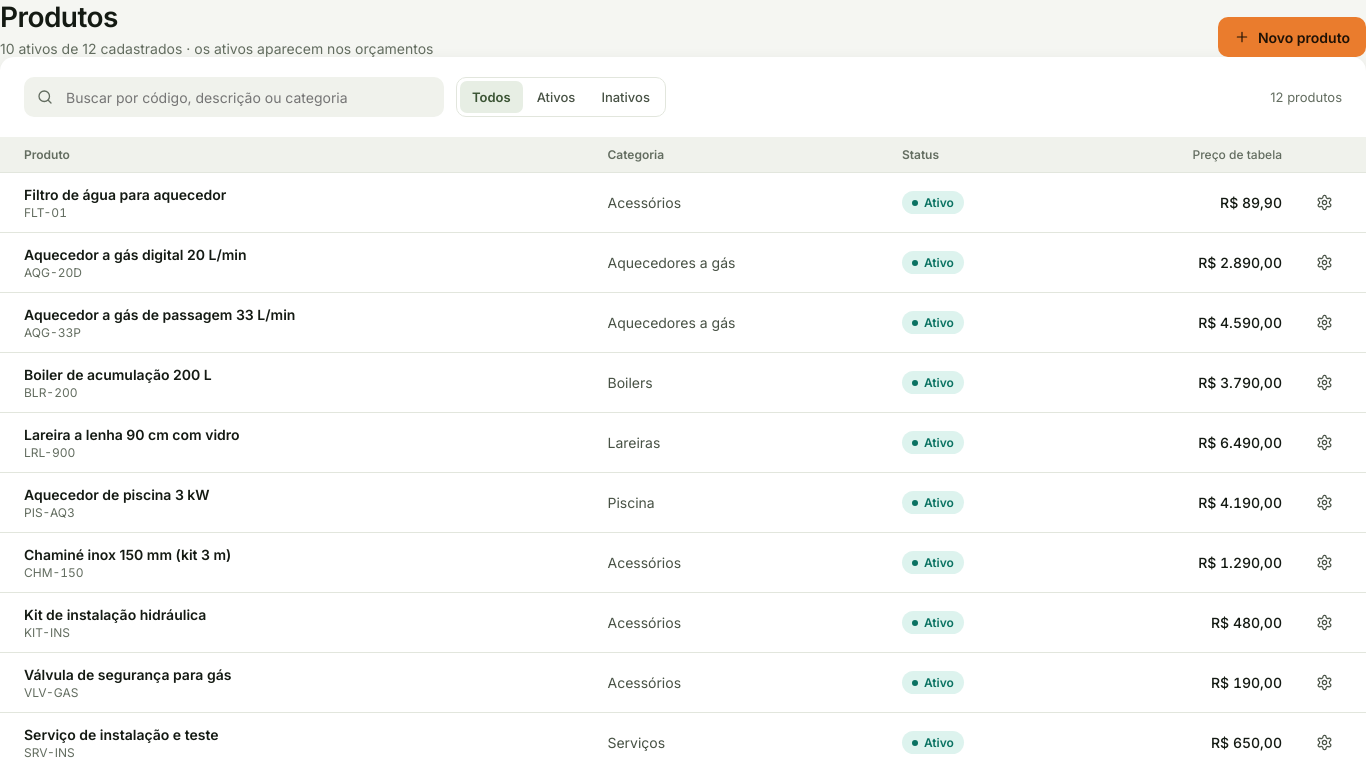
Test case: ProductsPage › valida os campos e acusa código já usado antes de salvar
The width and height of the screenshot is (1366, 768).
Click the button "Novo produto".
click(1292, 37)  # box [1218,17,1365,57]
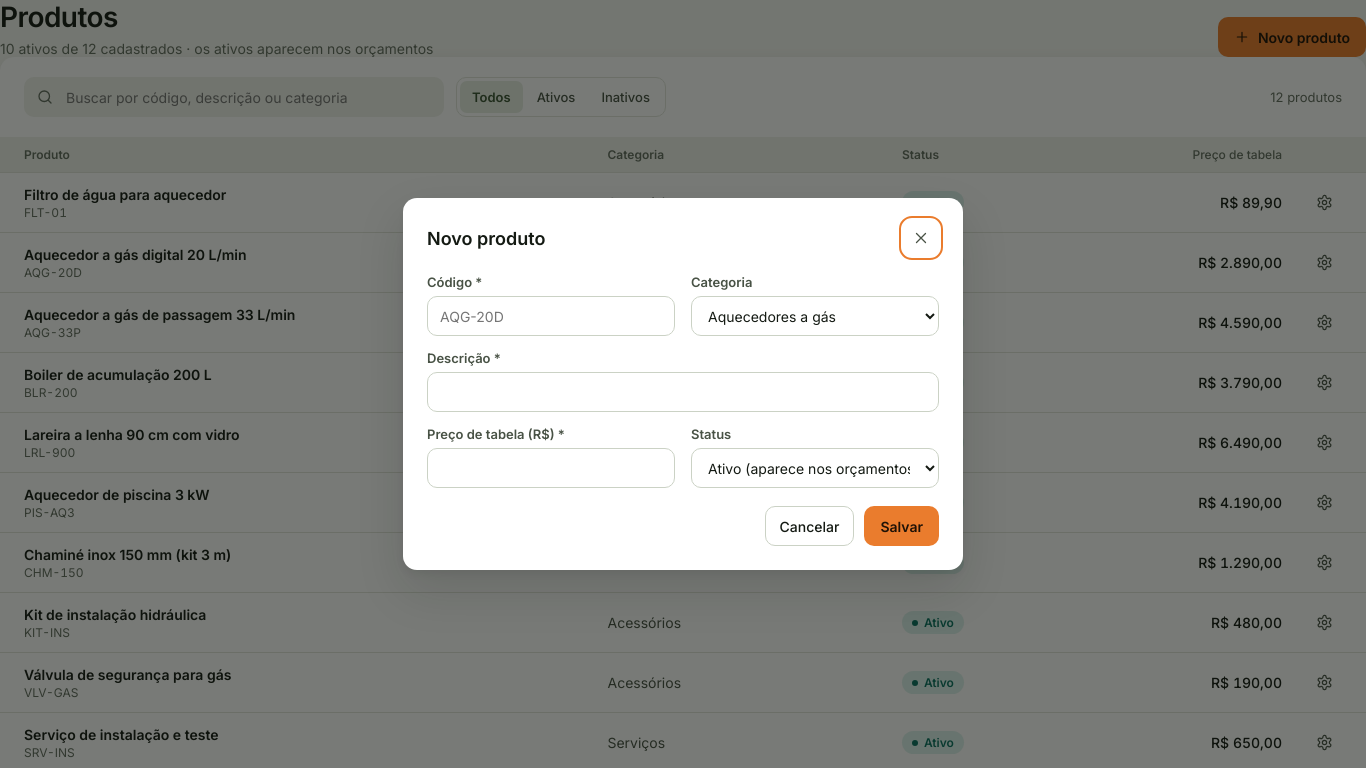
Click the button "Salvar".
click(902, 526)  # box [864,506,939,546]
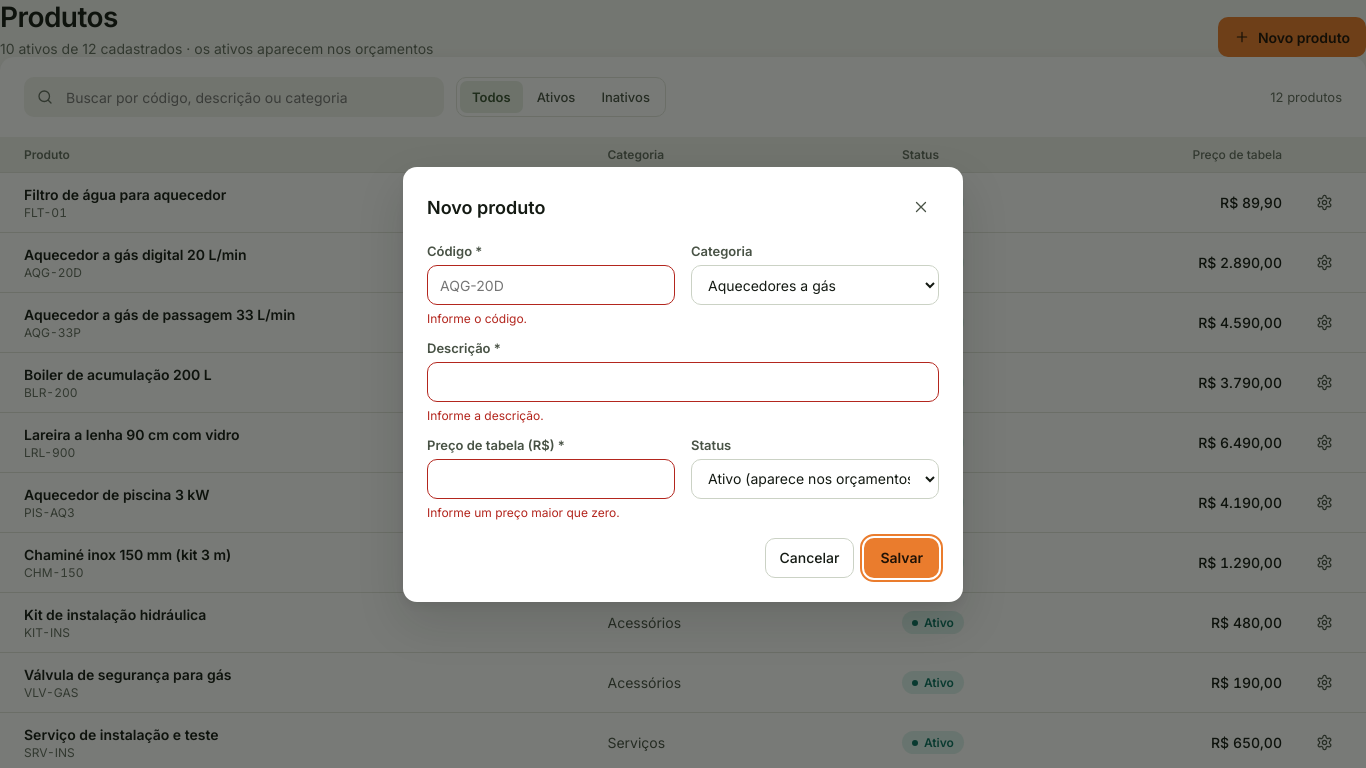
Expected: the text "Informe o código." is shown, [427,310,527,326]
Expected: the text "Informe a descrição." is shown, [427,408,544,422]
Expected: the text "Informe um preço maior que zero." is shown, [427,504,620,520]
Type "blr-200" into the field labelled "Código * Informe o código.".
click(551, 284); type("blr-200")  # box [427,264,675,304]
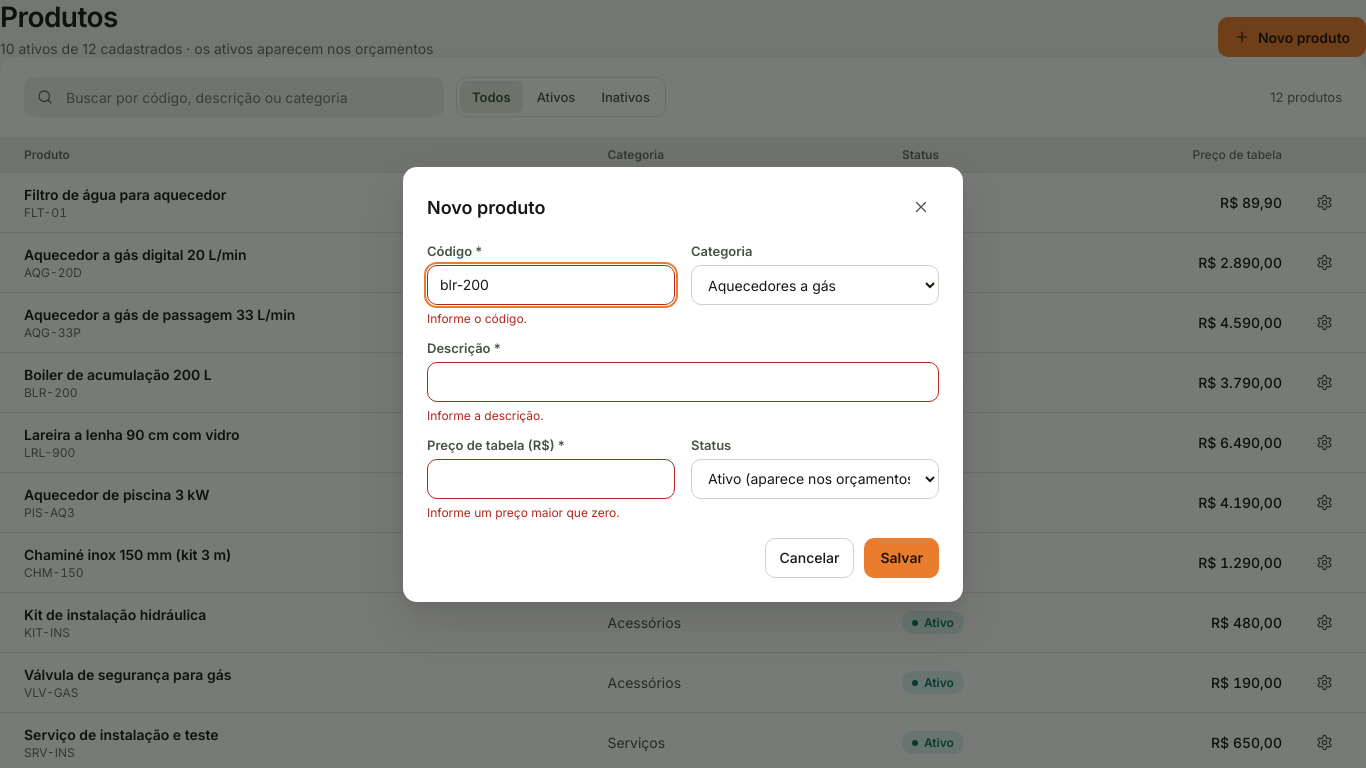
Click the button "Salvar".
click(902, 558)  # box [864,538,939,578]
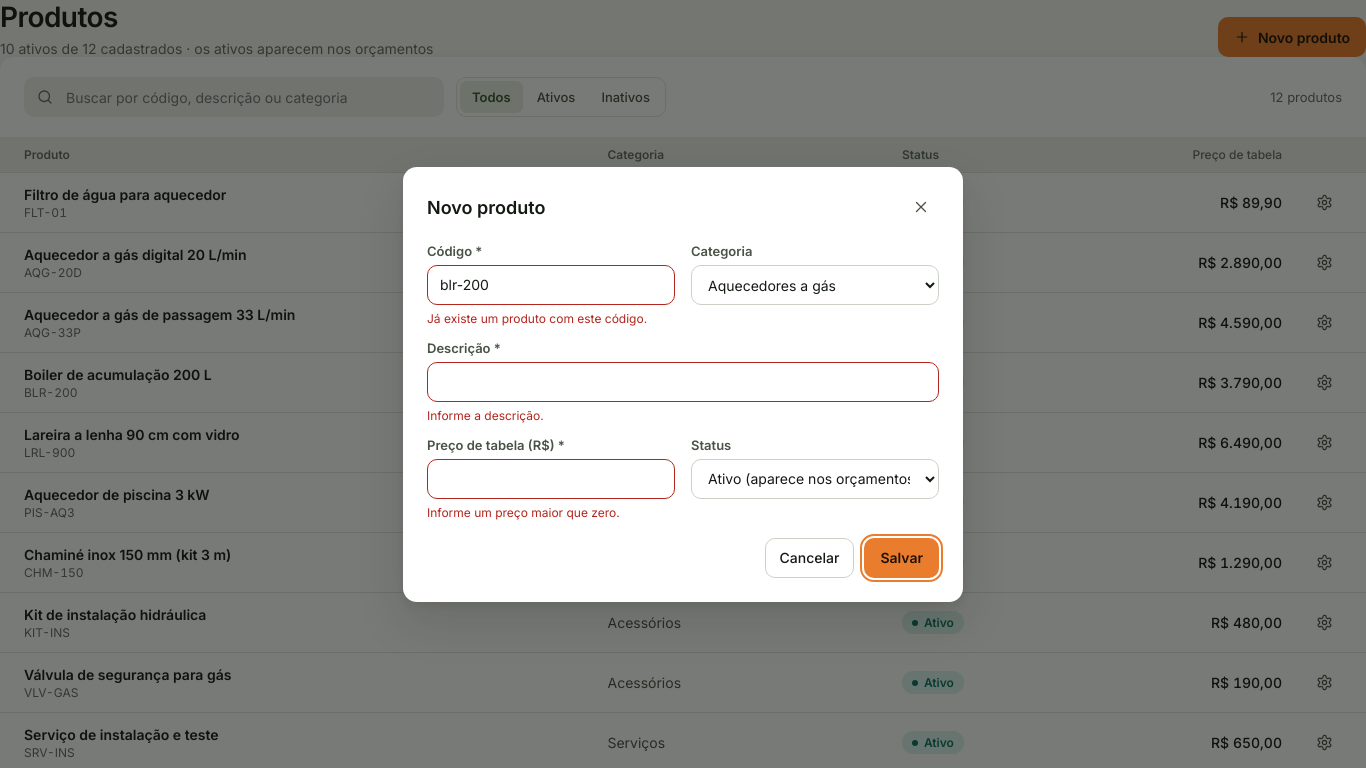
Expected: the text "Já existe um produto com este código." is shown, [427,310,675,326]
